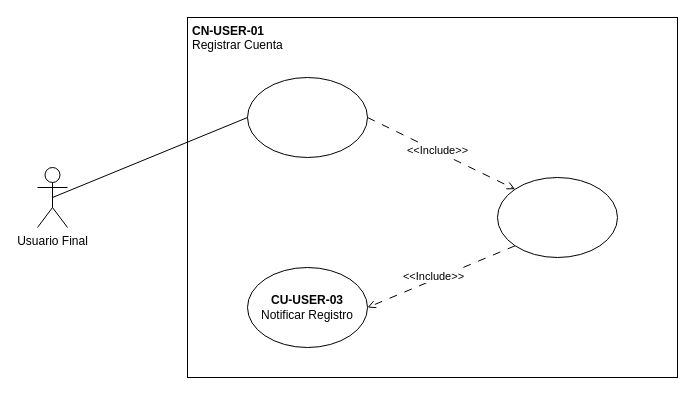
Some shapes in this 695 by 395 pixel diagram are drawn without their labels. Here are the shapes that lost their labels. From the top down, the box of each, then its label:
(246, 76, 368, 158): CU-USER-01 Ingresar Datos
(496, 176, 618, 258): CU-USER-02 Validar Datos
